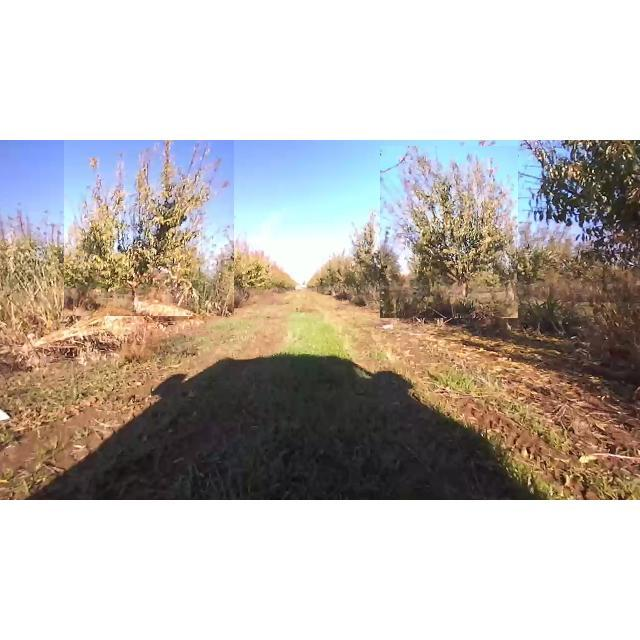direk: (64, 140, 234, 316), (380, 146, 518, 318)
